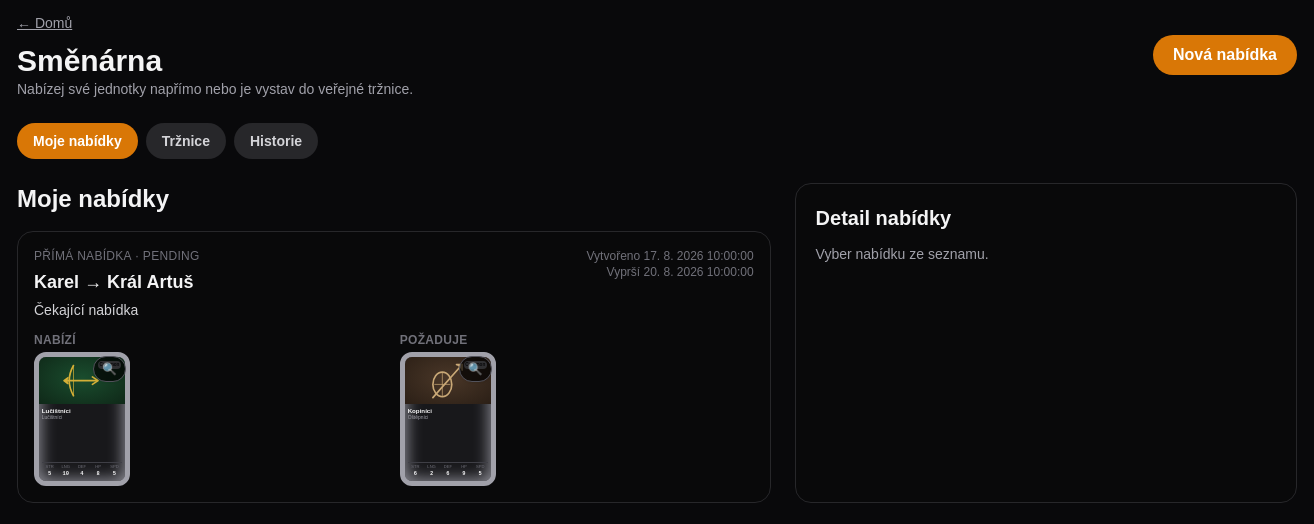
Test: ExchangePage › refetches after accept and removes the resolved offer from Moje nabídky
The image size is (1314, 524).
What coordinates should you click on to do the following:
click the text "Čekající nabídka"
I would click on:
 (86, 310)
Its box is 34,302 -> 138,318.
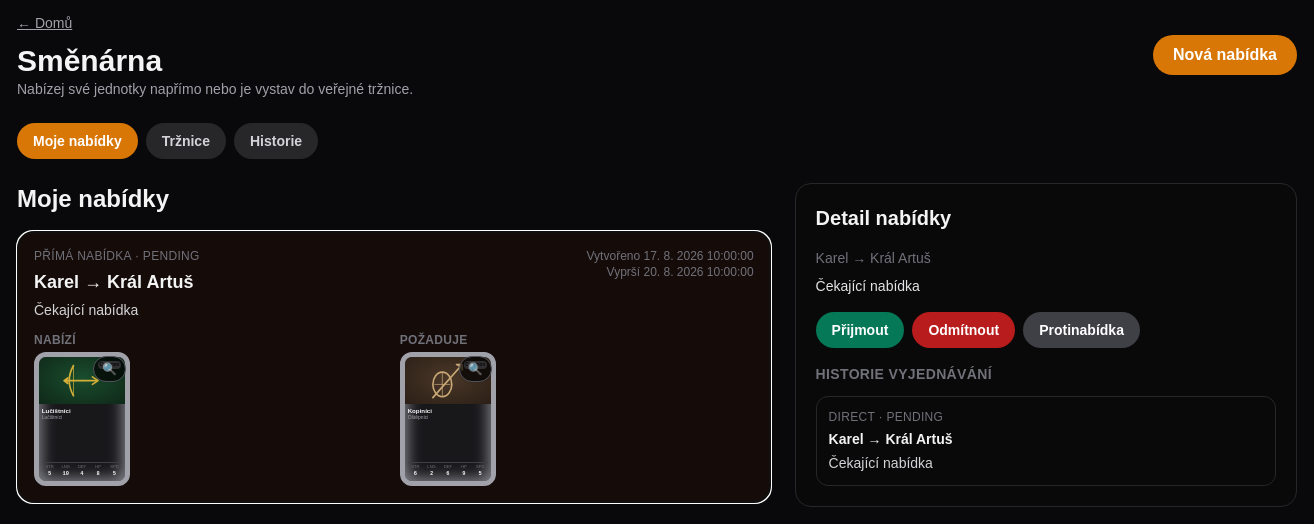
What coordinates should you click on to do the following:
click the button "Přijmout"
I would click on:
 (860, 330)
Its box is 816,312 -> 904,348.
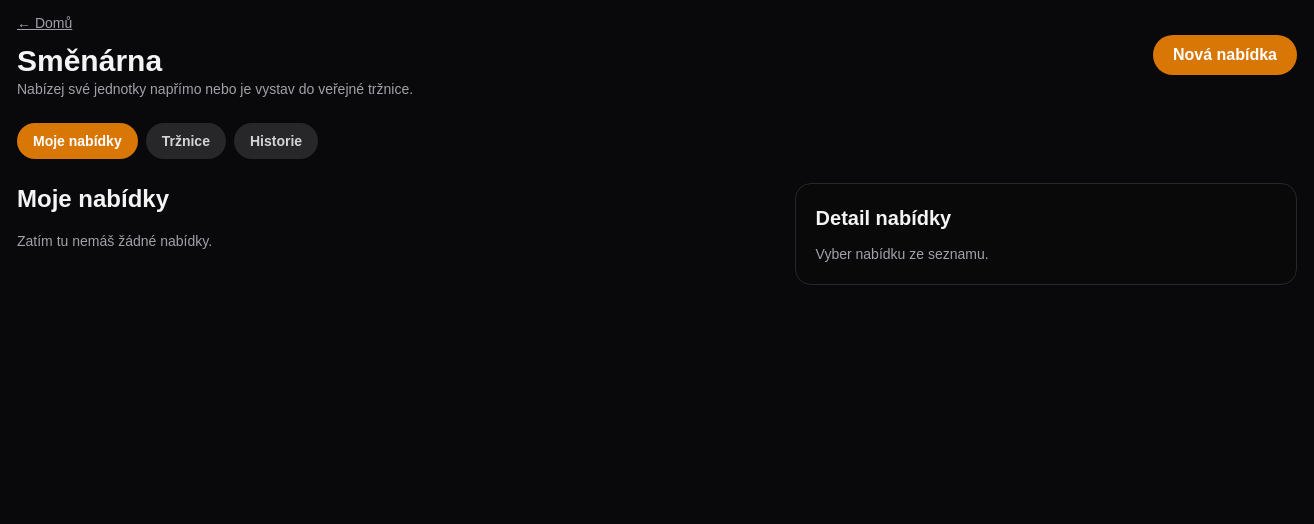
expect the text "Zatím tu nemáš žádné nabídky." is shown: met, box 17,233 -> 212,249
expect the button "Čekající nabídka" is gone: met
